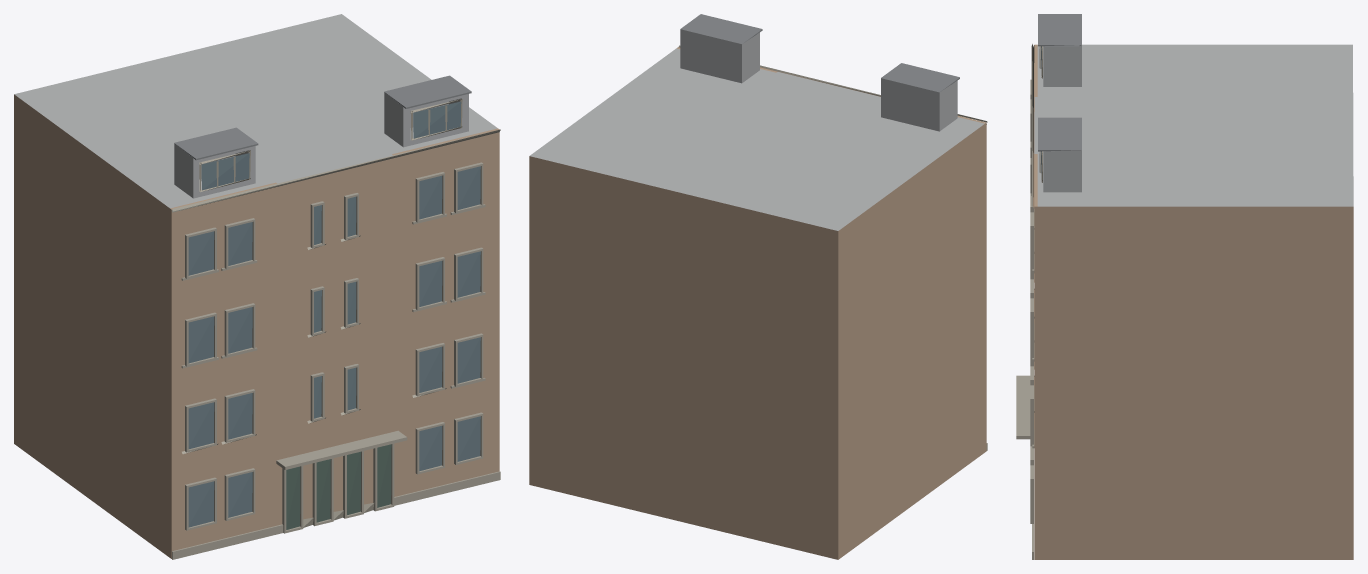
The model's file is chunk-face-haen-6-62-r2.lod2.glb.
3 views of the same model, side by side, from view 1: azimuth 30°, elevation 25°; view 2: azimuth 150°, elevation 25°; view 3: azimuth 270°, elevation 25° (orthographic). The views are drawn at different scales.
Parts seen in each view (by area): view 1: lod2; view 2: lod2; view 3: lod2.
Boxes of the visible parts, x1,y1,x2,y2 form: lod2: (14, 14, 500, 559); lod2: (529, 14, 987, 559); lod2: (1016, 14, 1353, 559).
Bounding box in the file's own units: 12.82 × 14.66 × 11.29.
